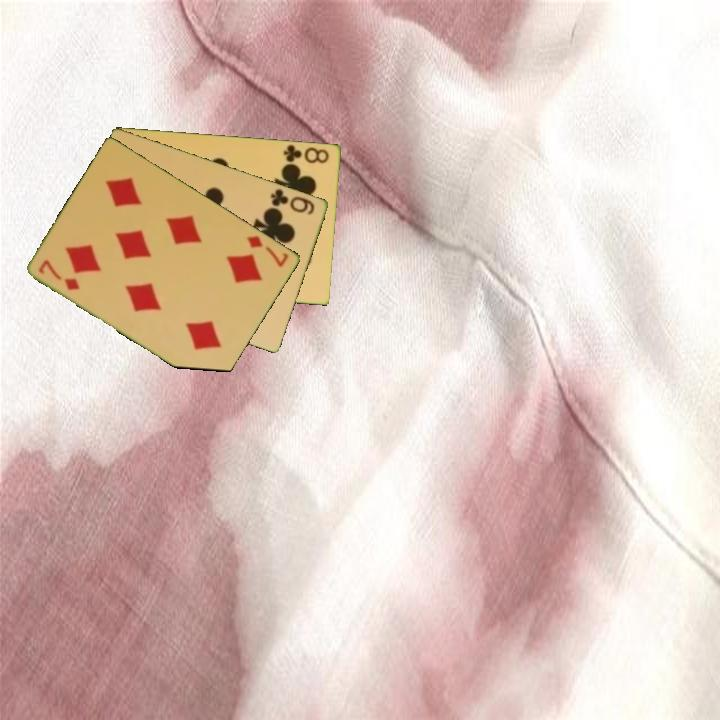6c: (267, 185, 318, 218)
7d: (244, 232, 292, 270), (35, 256, 83, 293)
8c: (280, 141, 332, 167)
